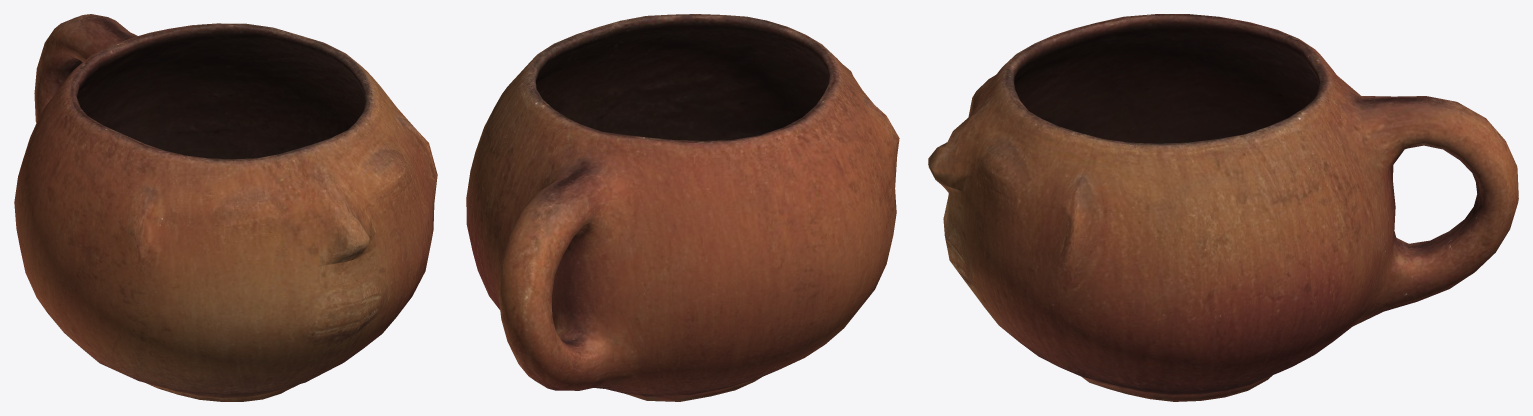
The model's file is taza_barro_cara.obj.
3 renders of one model, left to right at view 1: azimuth 30°, elevation 25°; view 2: azimuth 150°, elevation 25°; view 3: azimuth 270°, elevation 25°, orthographic. The views are drawn at different scales.
Visible parts, largest first — view 1: taza_barro_cara; view 2: taza_barro_cara; view 3: taza_barro_cara.
Part boxes in pixels (box(x1,y1,x2,y2)): taza_barro_cara: box(14, 14, 437, 401); taza_barro_cara: box(466, 14, 899, 401); taza_barro_cara: box(928, 14, 1518, 401).
Bounding box in the file's own units: 0.1109 × 0.0818 × 0.1519.
